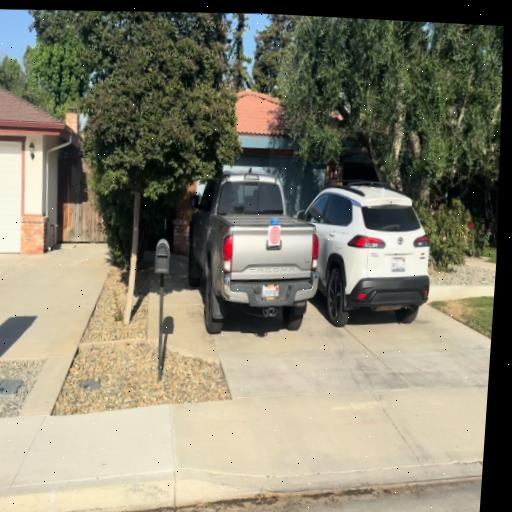bullseye: (269, 225, 280, 245)
